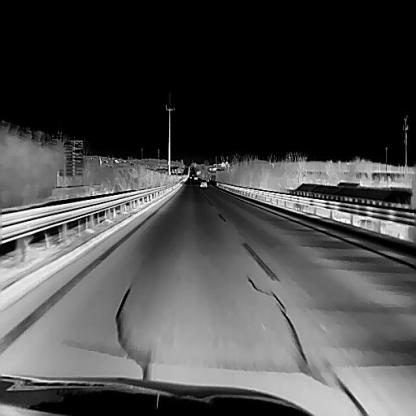car: (199, 177, 207, 186)
